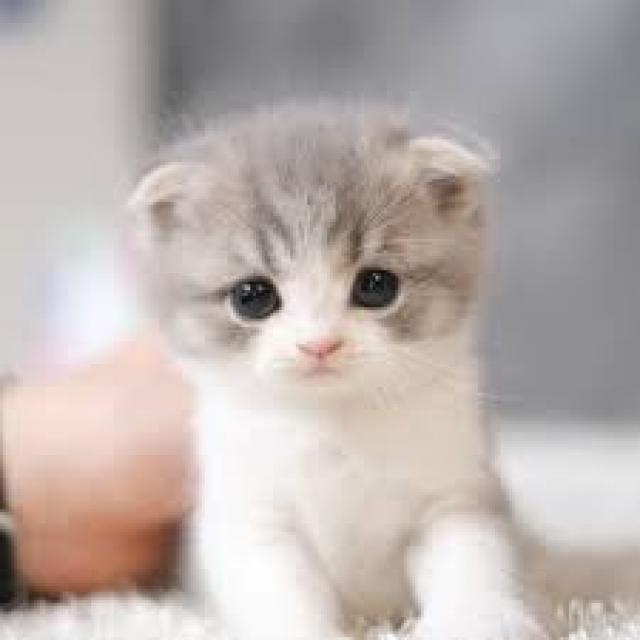cat-face: (58, 69, 522, 404)
